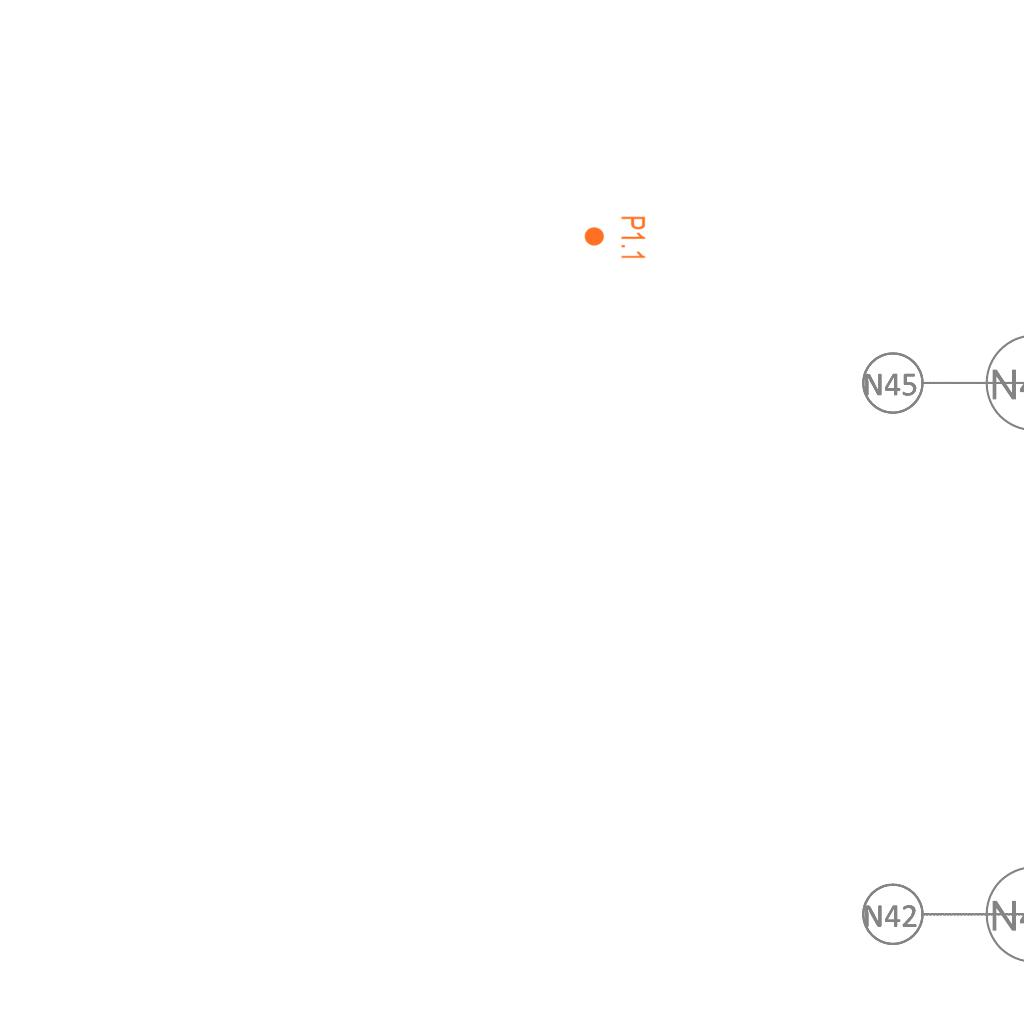Downlight_LED_Einbauleuchten_Flur_2: (583, 215, 647, 261)
